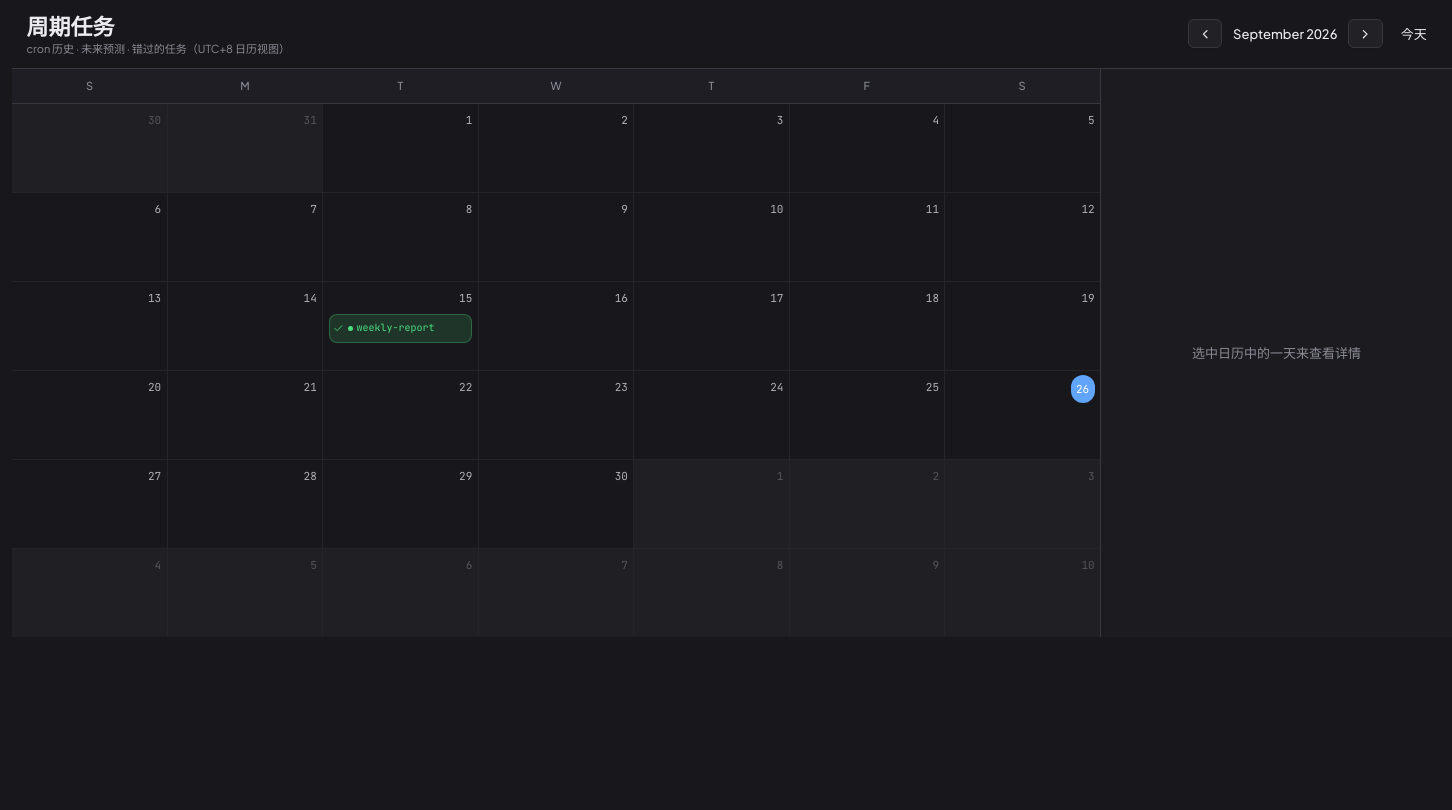
Test case: CronCalendar › clicking an empty day opens the panel showing the empty state
The width and height of the screenshot is (1452, 810).
Click the 1st button "30" at {"x": 89, "y": 148}, box x1=12 y1=104 x2=167 y2=192
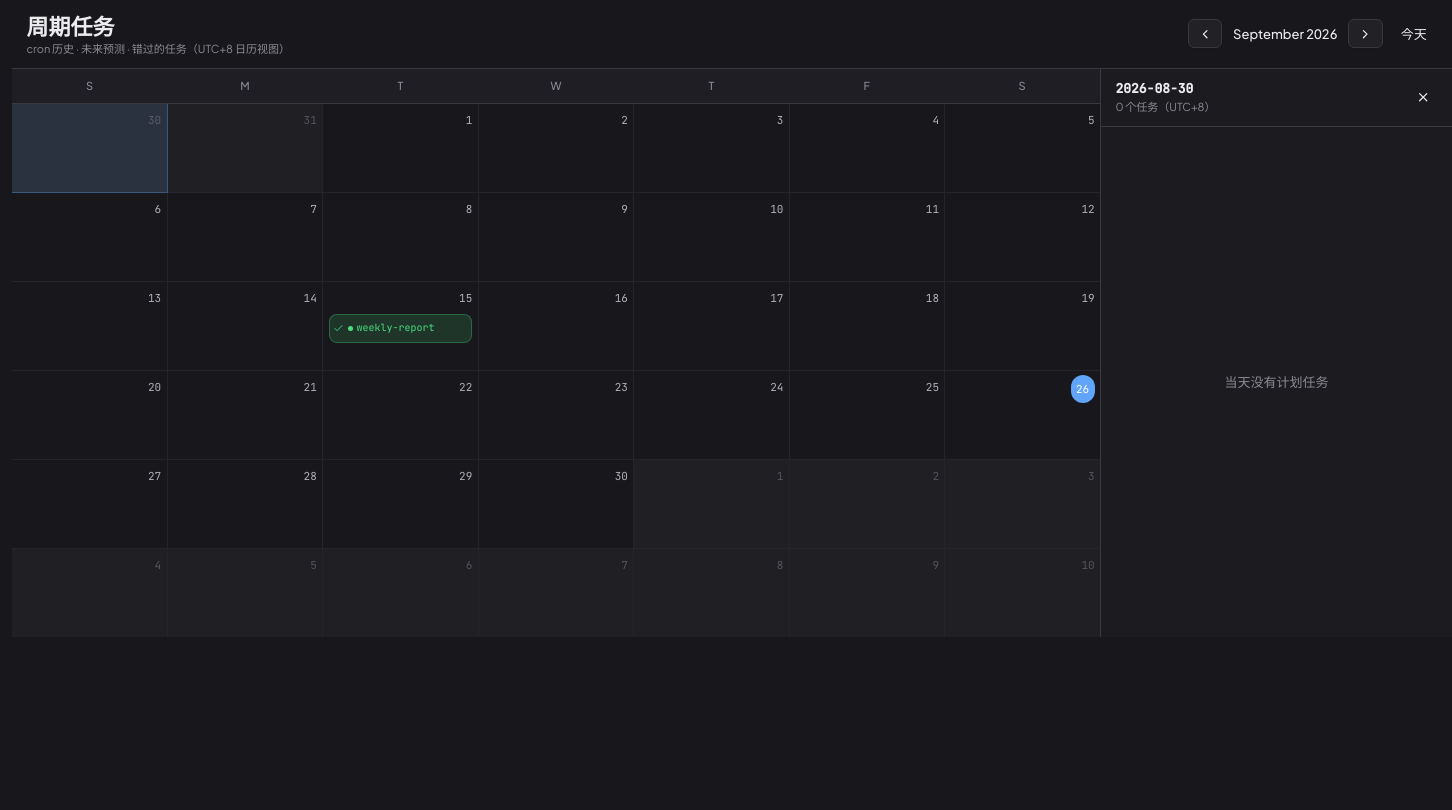
Now the text "当天没有计划任务" is shown, box x1=1224 y1=374 x2=1328 y2=390
